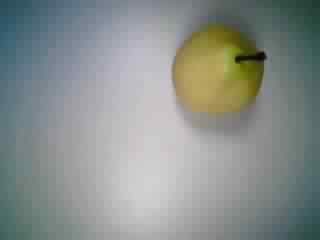pear: (163, 21, 274, 131)
